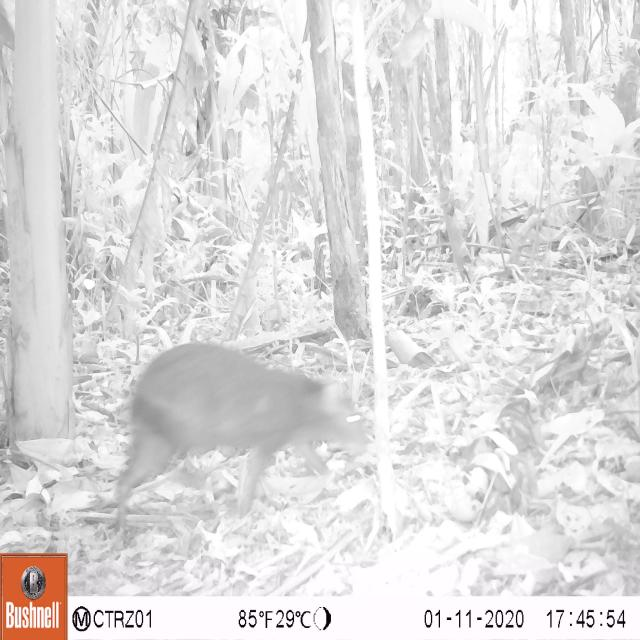Black Agouti: (95, 330, 370, 545)
